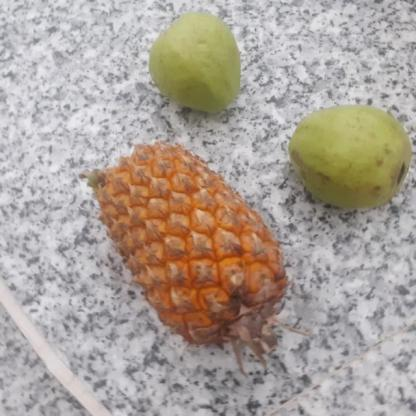guava: (284, 107, 411, 206), (147, 13, 241, 111)
pineapple: (96, 133, 286, 346)
